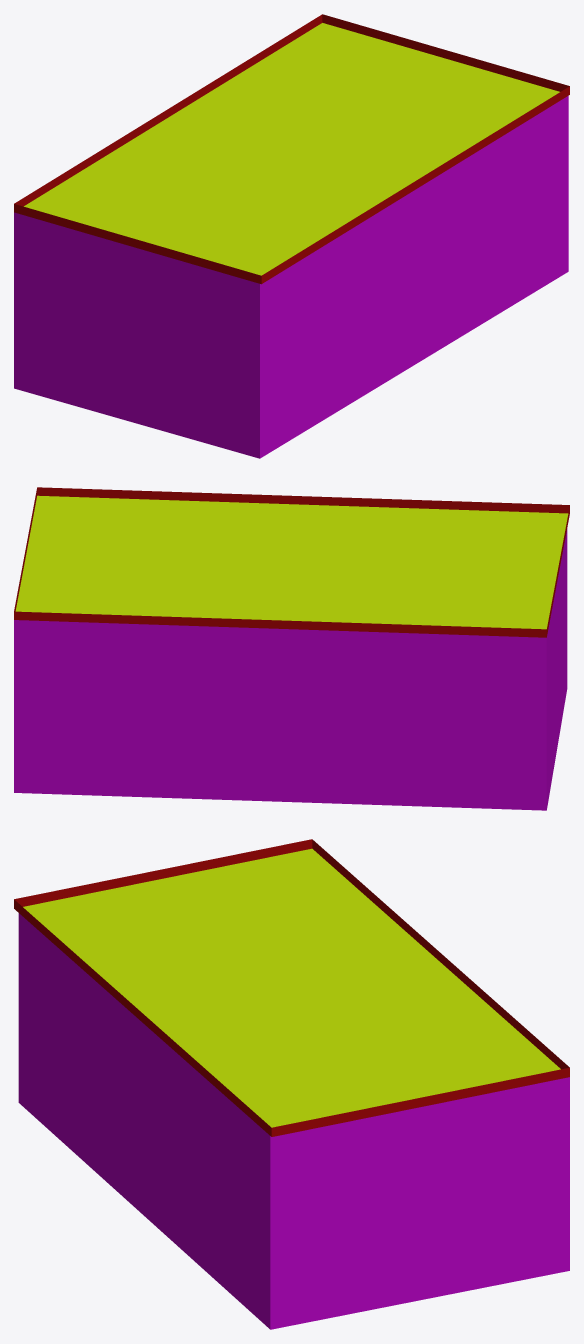
Rendered from sjs_13.glb.
3 renders of one model, top to bottom at view 1: azimuth 30°, elevation 25°; view 2: azimuth 150°, elevation 25°; view 3: azimuth 270°, elevation 25°, orthographic. The views are drawn at different scales.
Parts seen in each view (by area): view 1: sjs_13; view 2: sjs_13; view 3: sjs_13.
Part boxes in pixels (left/top/right/bottom): sjs_13: left=14, top=14, right=569, bottom=458; sjs_13: left=14, top=487, right=569, bottom=810; sjs_13: left=14, top=839, right=569, bottom=1329.
Size of the model in its own units: 22.93 by 7.53 by 18.67.
